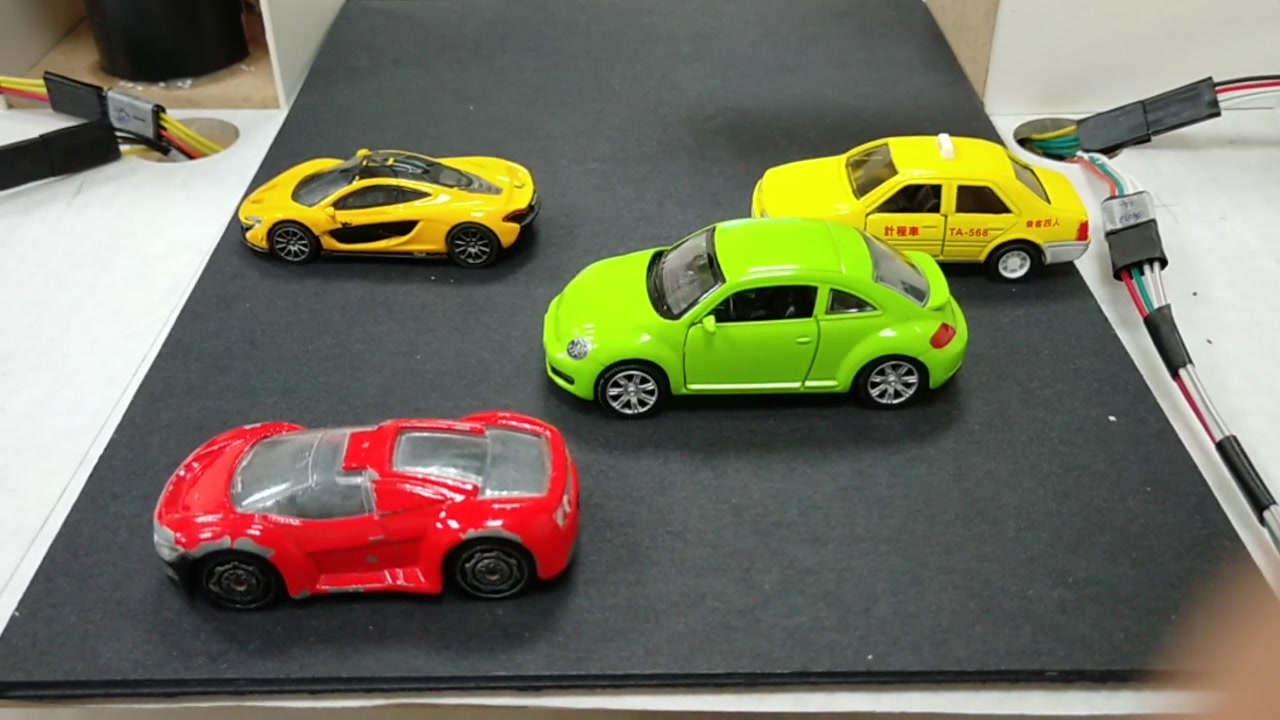car: (546, 225, 968, 417), (159, 426, 590, 608), (753, 138, 1100, 270), (242, 152, 536, 257)
